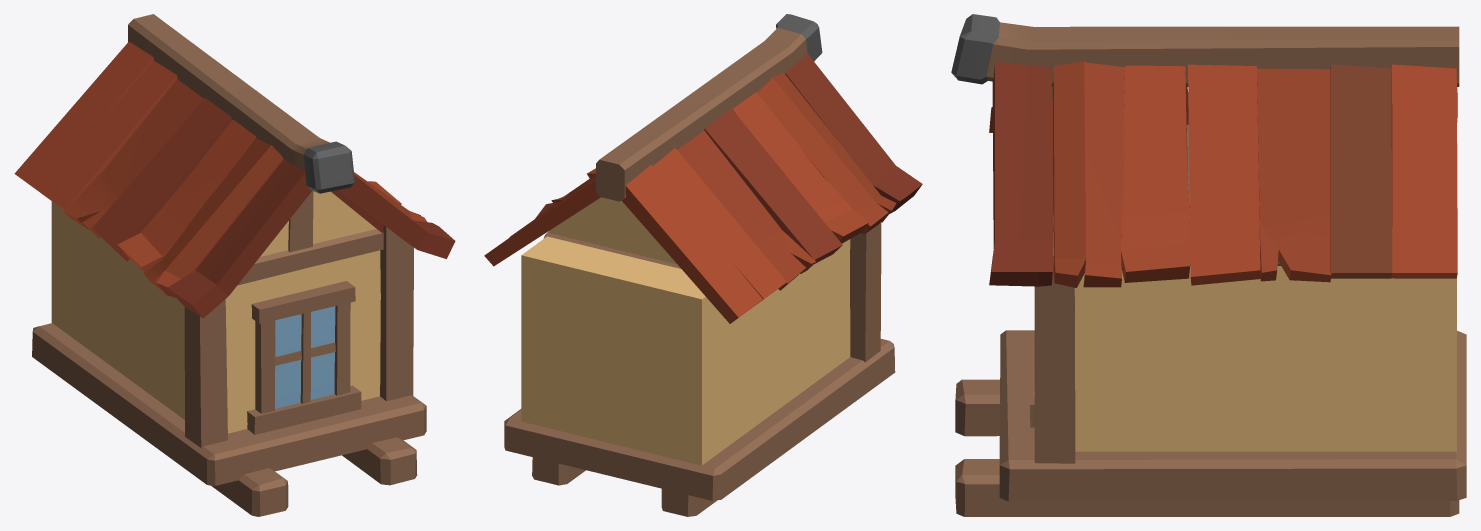
File: House_2Floor_Side_H.fbx
3 renders of one model, left to right at view 1: azimuth 30°, elevation 25°; view 2: azimuth 150°, elevation 25°; view 3: azimuth 270°, elevation 25°, orthographic. The views are drawn at different scales.
Parts seen in each view (by area): view 1: House_2Floor_Side_H; view 2: House_2Floor_Side_H; view 3: House_2Floor_Side_H.
Part boxes in pixels (bbox=[...]): House_2Floor_Side_H: bbox=[14, 14, 455, 516]; House_2Floor_Side_H: bbox=[484, 14, 922, 516]; House_2Floor_Side_H: bbox=[951, 14, 1466, 516].
Bounding box in the file's own units: 153 × 189 × 198.
